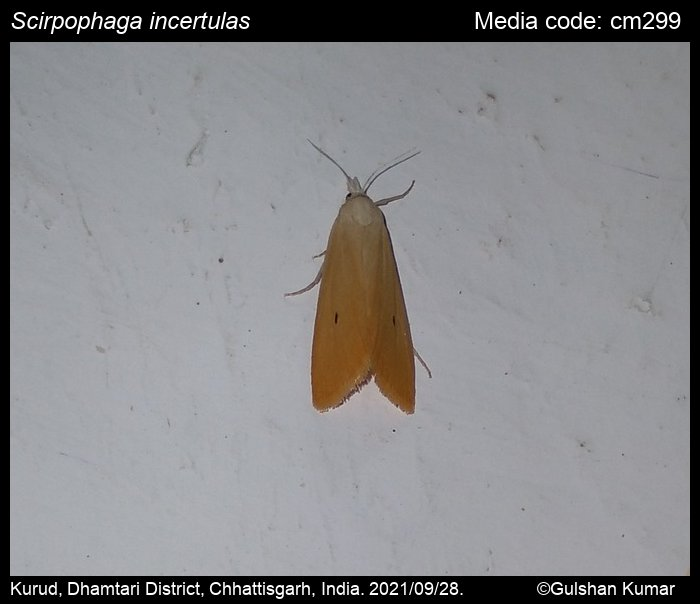Crambidae: (281, 134, 431, 422)
